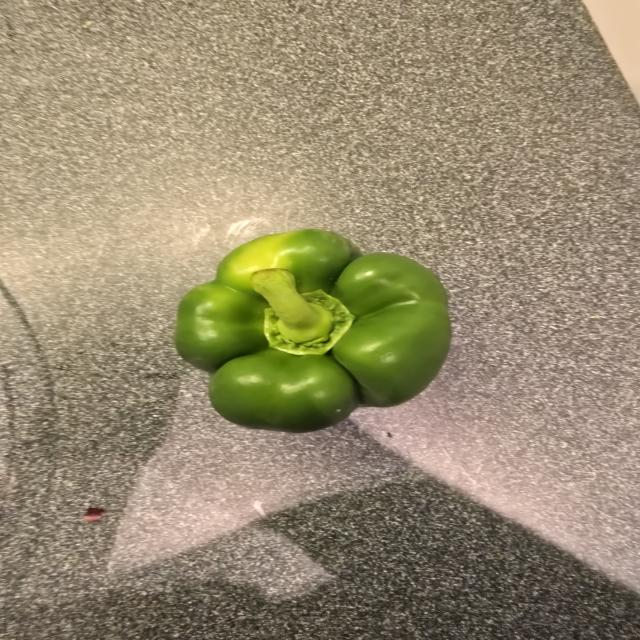Bell Pepper: (168, 221, 458, 440)
